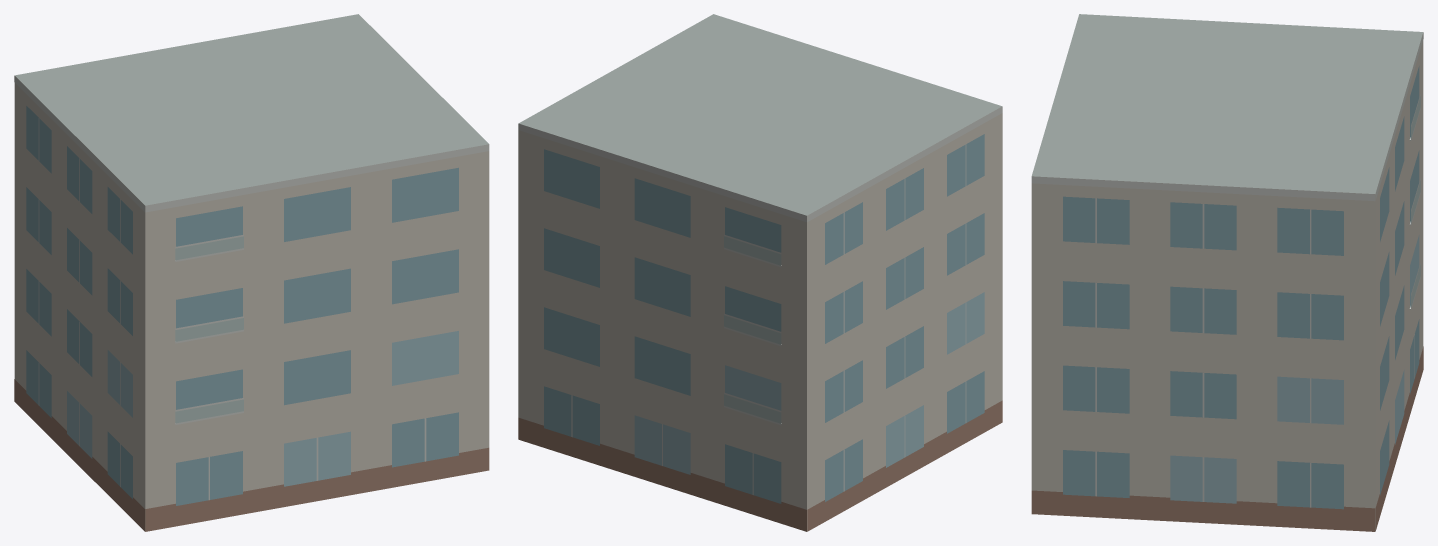
The model's file is survey-upis-32679678.glb.
3 renders of one model, left to right at view 1: azimuth 30°, elevation 25°; view 2: azimuth 150°, elevation 25°; view 3: azimuth 270°, elevation 25°, orthographic. The views are drawn at different scales.
Parts seen in each view (by area): view 1: survey-upis-32679678.tmp; view 2: survey-upis-32679678.tmp; view 3: survey-upis-32679678.tmp.
Boxes of the visible parts, <box> form: survey-upis-32679678.tmp: <box>14,14,489,531</box>; survey-upis-32679678.tmp: <box>518,14,1002,531</box>; survey-upis-32679678.tmp: <box>1031,14,1423,531</box>.
Bounding box in the file's own units: 13.34 × 11.65 × 12.26.
